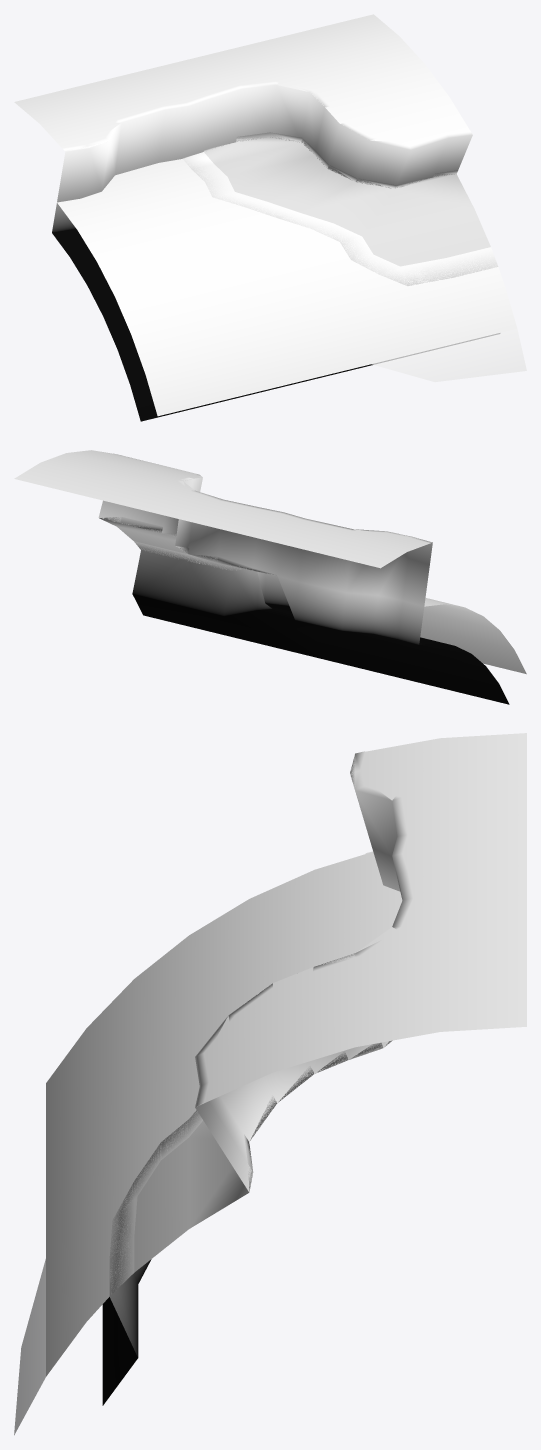
The model's file is grd_Msw_s_E_0.dae.
The picture shows the model from 3 angles, top to bottom: view 1: azimuth 30°, elevation 25°; view 2: azimuth 150°, elevation 25°; view 3: azimuth 270°, elevation 25°; orthographic projection. The views are drawn at different scales.
Visible parts, largest first — view 1: ocean_4_0, grass_3_0, cliff_2_0, beach_0_0, wave_6_0, beach_1_0, river_edge_5_0; view 2: beach_1_0, cliff_2_0, grass_3_0, ocean_4_0, beach_0_0; view 3: ocean_4_0, grass_3_0, cliff_2_0, wave_6_0, beach_0_0, beach_1_0, river_edge_5_0.
Part boxes in pixels (left/top/right/bottom): ocean_4_0: left=58, top=159, right=516, bottom=416; grass_3_0: left=14, top=14, right=469, bottom=150; cliff_2_0: left=52, top=81, right=472, bottom=232; beach_0_0: left=182, top=132, right=490, bottom=266; wave_6_0: left=82, top=159, right=526, bottom=382; beach_1_0: left=52, top=152, right=499, bottom=421; river_edge_5_0: left=57, top=159, right=181, bottom=208; beach_1_0: left=132, top=541, right=509, bottom=704; cliff_2_0: left=98, top=454, right=432, bottom=644; grass_3_0: left=14, top=450, right=430, bottom=568; ocean_4_0: left=134, top=542, right=526, bottom=674; beach_0_0: left=99, top=517, right=277, bottom=575; ocean_4_0: left=46, top=852, right=401, bottom=1375; grass_3_0: left=197, top=733, right=526, bottom=1106; cliff_2_0: left=195, top=751, right=413, bottom=1191; wave_6_0: left=14, top=869, right=392, bottom=1435; beach_0_0: left=134, top=1040, right=392, bottom=1272; beach_1_0: left=102, top=1110, right=202, bottom=1405; river_edge_5_0: left=361, top=851, right=402, bottom=911.
Size of the model in its own units: 512 by 332 by 378.
Materials: 7 (1 with a texture image).
